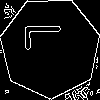L: (25, 22, 71, 51)
